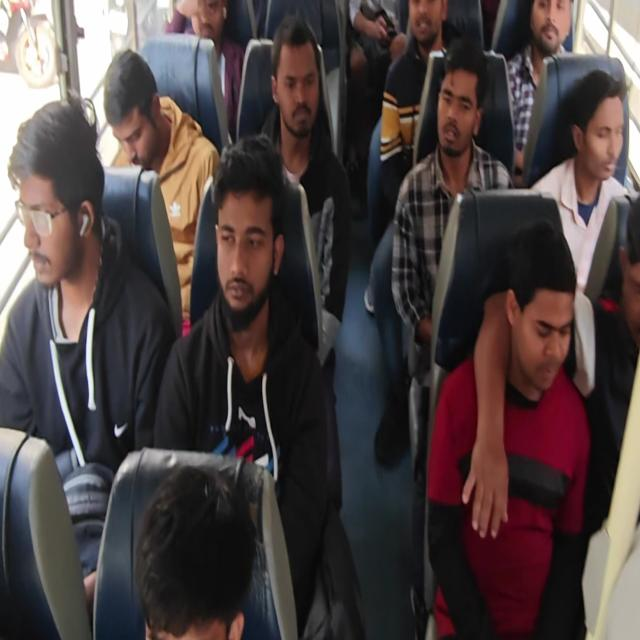person: (4, 104, 110, 283), (141, 508, 262, 640), (210, 154, 272, 319), (511, 248, 567, 392), (98, 67, 165, 170), (578, 71, 630, 186), (274, 28, 318, 128), (434, 64, 475, 162), (618, 195, 640, 332), (523, 0, 573, 56), (404, 0, 444, 49), (181, 0, 227, 41)
